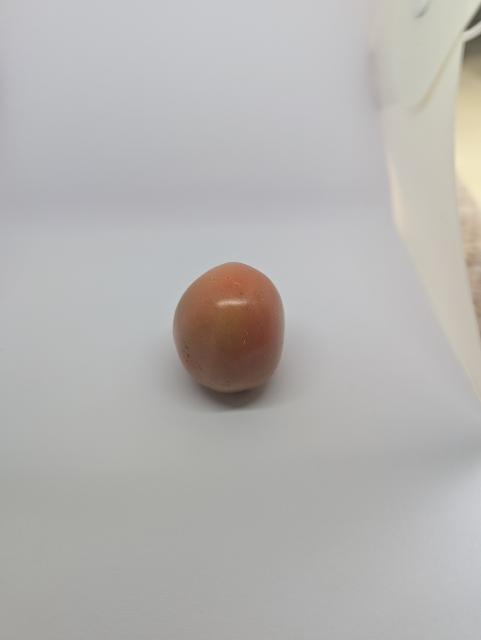turning: (165, 257, 296, 399)
